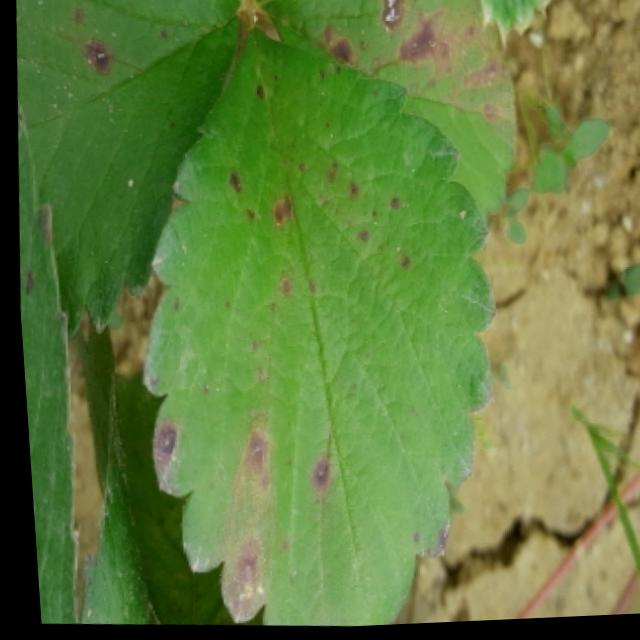Leaf Spot: (136, 20, 493, 629), (16, 0, 252, 340), (249, 0, 516, 226), (72, 370, 228, 627), (16, 105, 71, 624)
